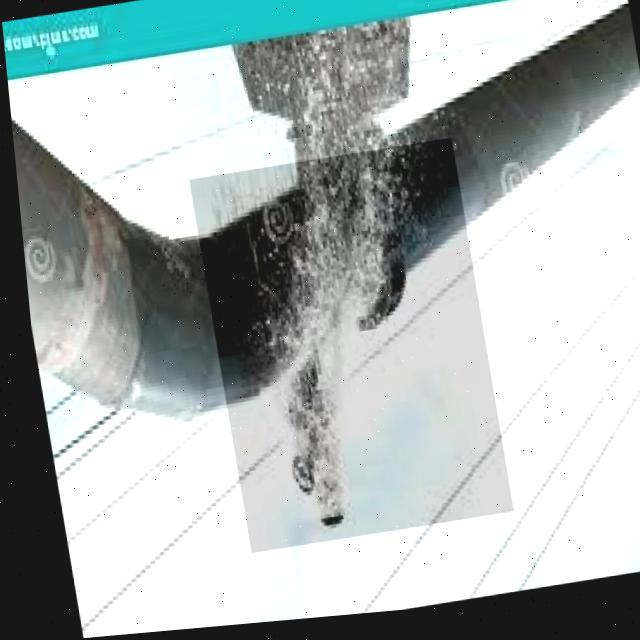corrosion: (192, 156, 481, 552)
